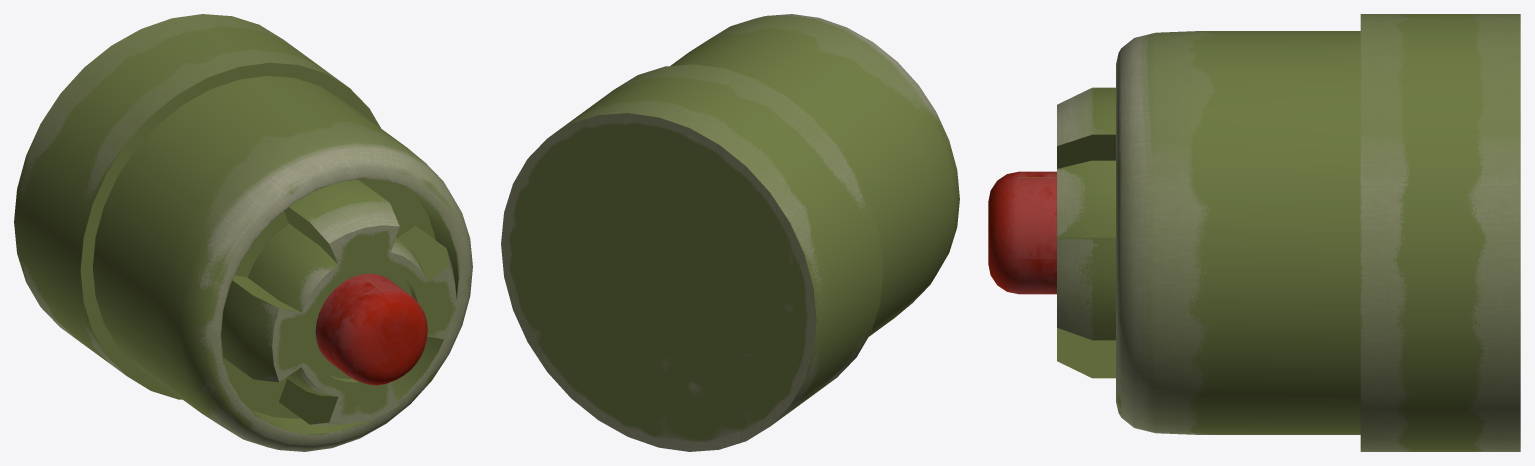
Rendered from landmine.fbx.
3 renders of one model, left to right at view 1: azimuth 30°, elevation 25°; view 2: azimuth 150°, elevation 25°; view 3: azimuth 270°, elevation 25°, orthographic. The views are drawn at different scales.
Visible parts, largest first — view 1: landmine; view 2: landmine; view 3: landmine.
Part boxes in pixels (box(x1,y1,x2,y2)): landmine: box(14, 14, 472, 451); landmine: box(501, 14, 959, 451); landmine: box(988, 14, 1520, 451).
Bounding box in the file's own units: 2.17 × 2.17 × 2.63.
